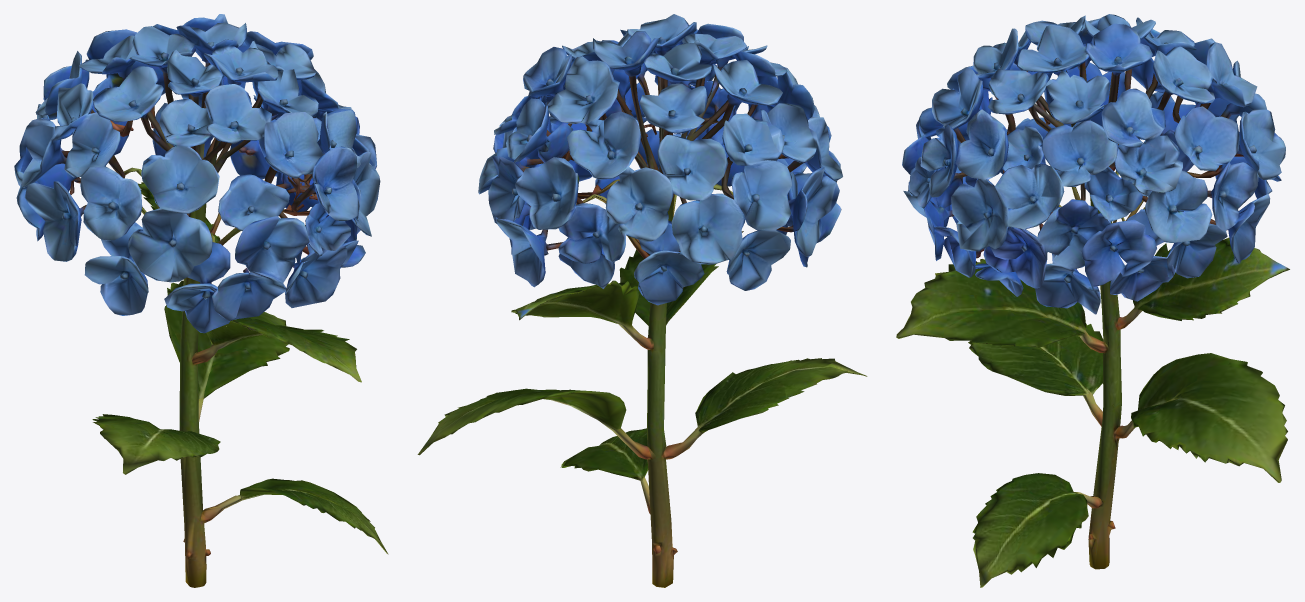
The model's file is blue hydrangea 1.glb.
The picture shows the model from 3 angles, left to right: view 1: azimuth 30°, elevation 25°; view 2: azimuth 150°, elevation 25°; view 3: azimuth 270°, elevation 25°; orthographic projection.
Visible parts, largest first — view 1: tripo_node_a605b00a-487f-48ab-9471-fdafeda07785; view 2: tripo_node_a605b00a-487f-48ab-9471-fdafeda07785; view 3: tripo_node_a605b00a-487f-48ab-9471-fdafeda07785.
Boxes of the visible parts, x1,y1,x2,y2 form: tripo_node_a605b00a-487f-48ab-9471-fdafeda07785: (14,14,388,587); tripo_node_a605b00a-487f-48ab-9471-fdafeda07785: (417,14,867,587); tripo_node_a605b00a-487f-48ab-9471-fdafeda07785: (896,14,1289,587).
Bounding box in the file's own units: 0.5854 × 0.9797 × 0.6446.
Materials: 1 (1 with a texture image).
